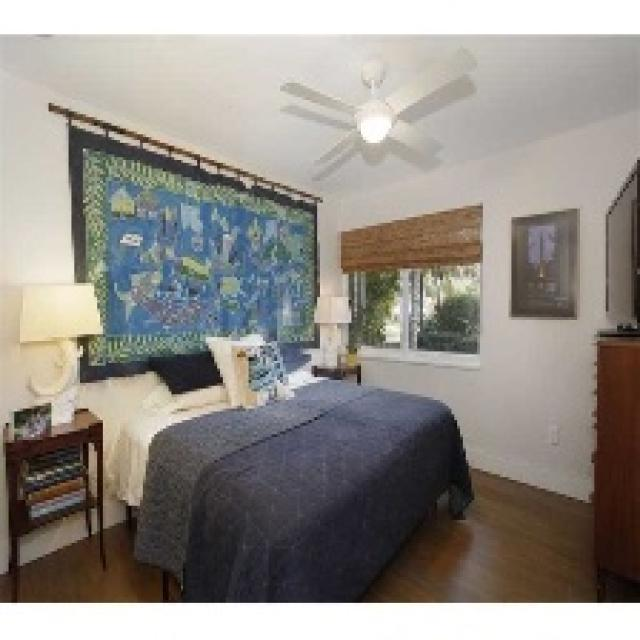Bed: (74, 351, 472, 600)
